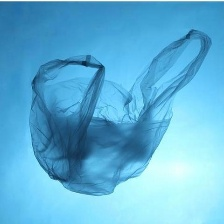plastic_bag: (22, 21, 218, 200)
